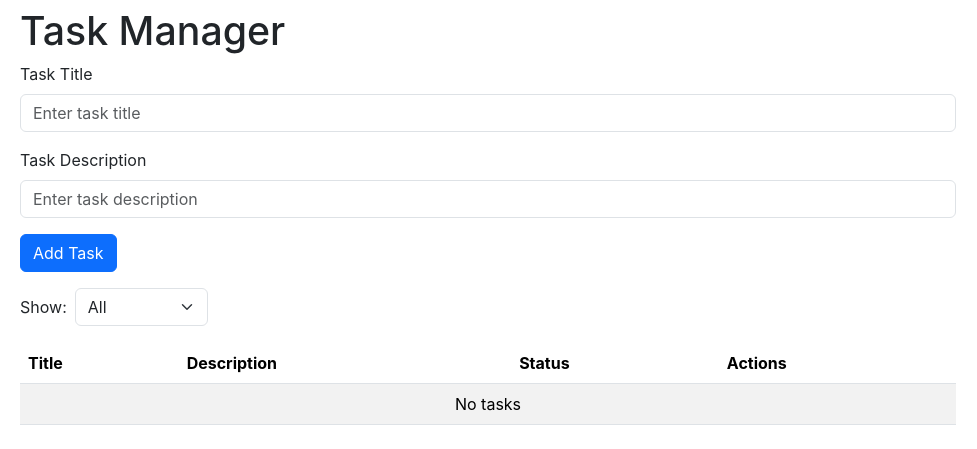
Test: App Component › adds a task when Add Task button is clicked
Type "Test Task" into the field with placeholder "Enter task title".
click(488, 113); type("Test Task")  # box [20,94,956,132]
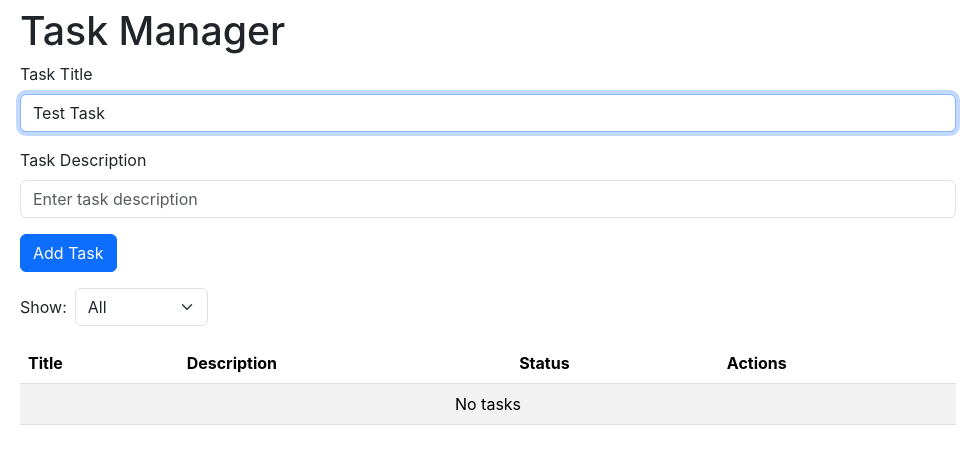
Type "Test Description" into the field with placeholder "Enter task description".
click(488, 199); type("Test Description")  # box [20,180,956,218]
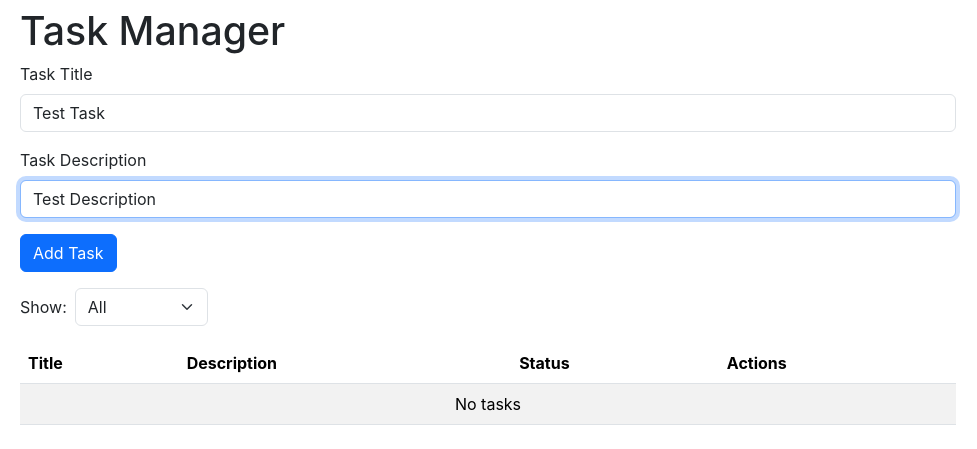
Click the button "Add Task".
click(68, 253)  # box [20,234,116,272]
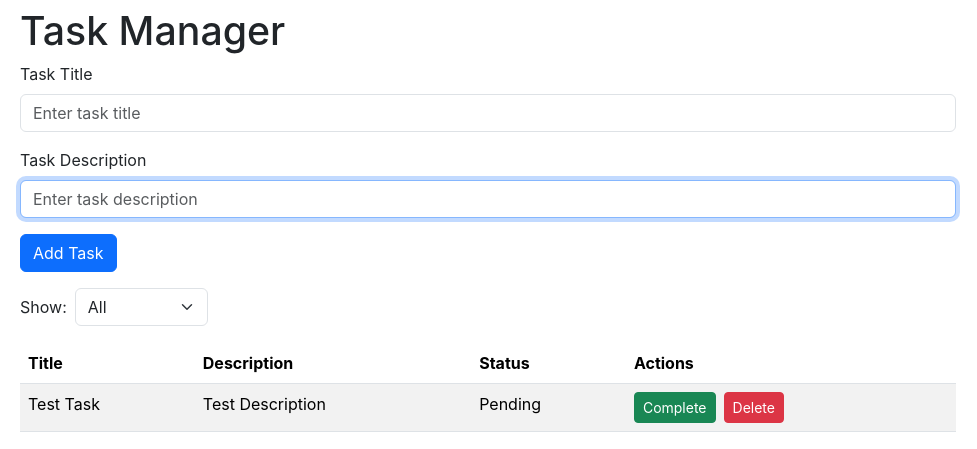
Now the text "Test Task" is shown, box [20,384,195,432]
Now the text "Test Description" is shown, box [195,384,471,432]
Now the row "Test Task Test Description Pending Complete Delete" is shown, box [20,384,956,432]
